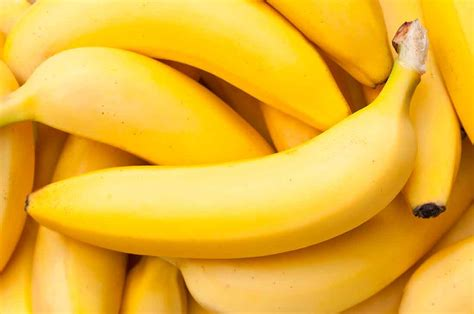banana: (20, 100, 414, 264)
